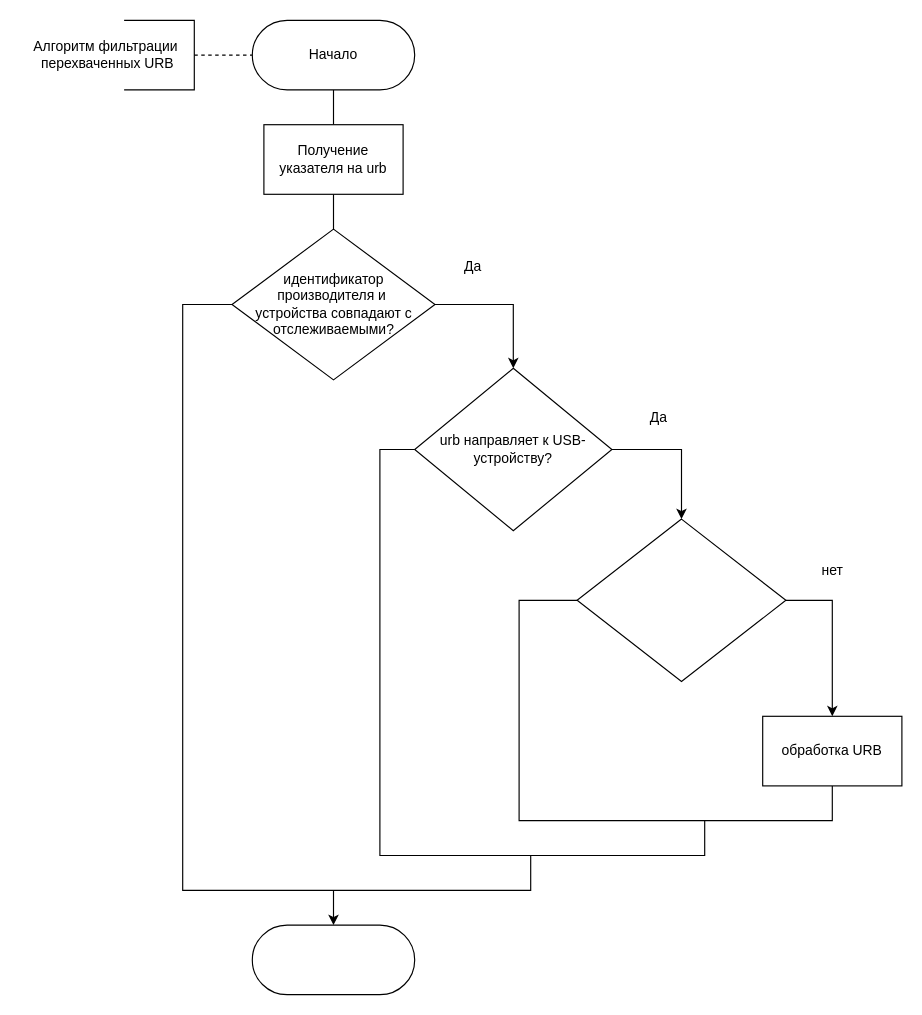
This 922x1015 diagram has some shape labels left out. Each missing label, with the centre of its shape:
данные в urb можно привести к виду служебной команды?: point (681, 600)
Конец: point (333, 959)
